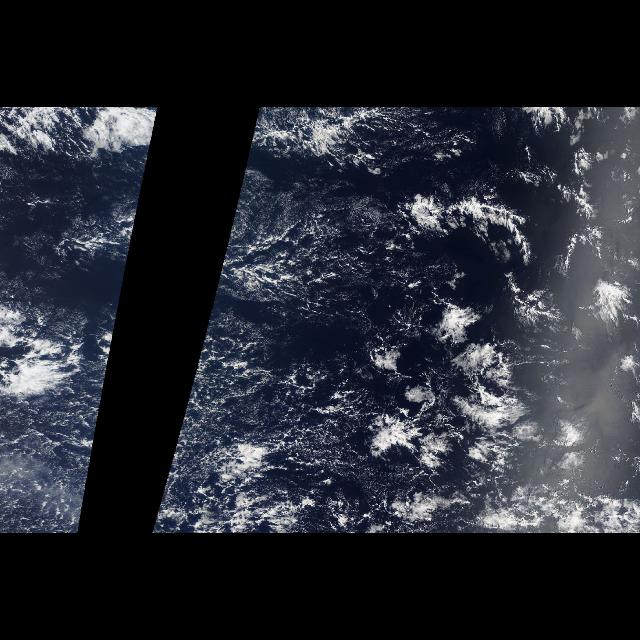Fish: (402, 185, 558, 271)
Flower: (347, 190, 627, 480)
Gravel: (154, 208, 444, 534), (10, 238, 134, 526)
Sugar: (7, 409, 102, 529), (152, 409, 232, 529)
